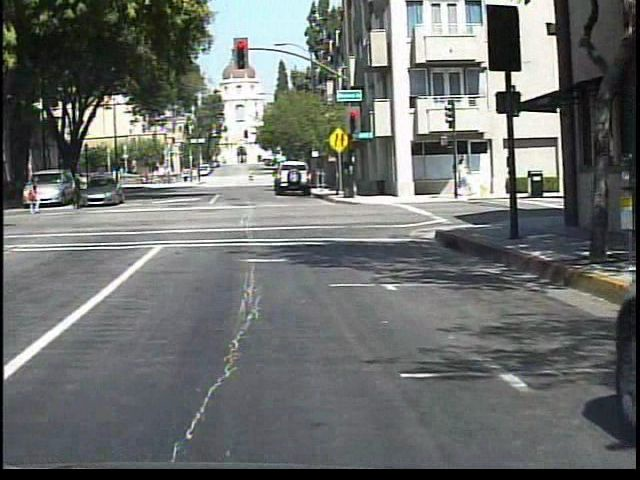person: (63, 169, 86, 214), (21, 177, 43, 217), (247, 169, 255, 186)
